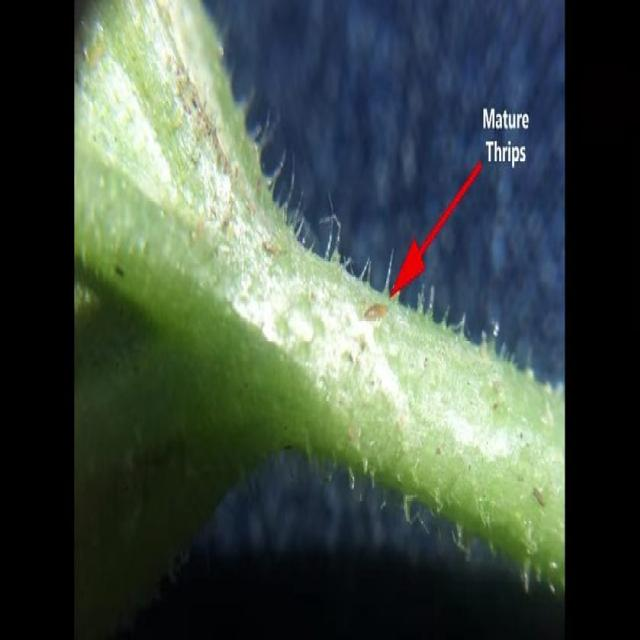Thrip-Larva-: (362, 290, 389, 330)
